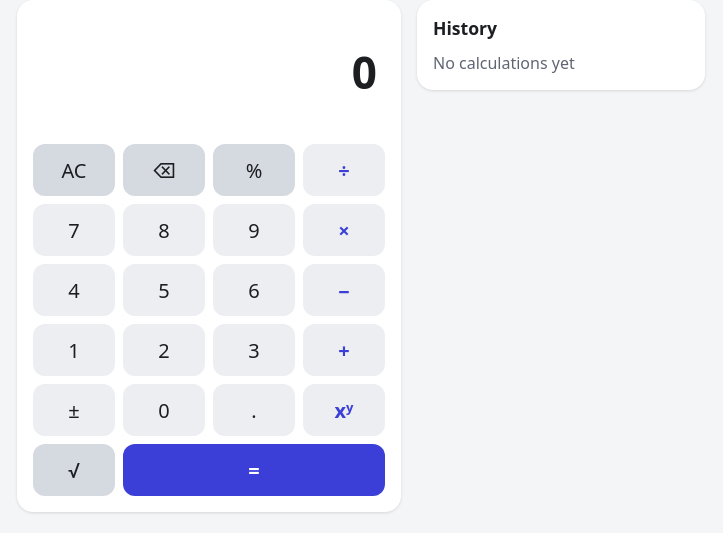
Test case: Calculator › calculates left to right through the keypad
The width and height of the screenshot is (723, 533).
Click the button "2" at (164, 350), box [123,324,205,376]
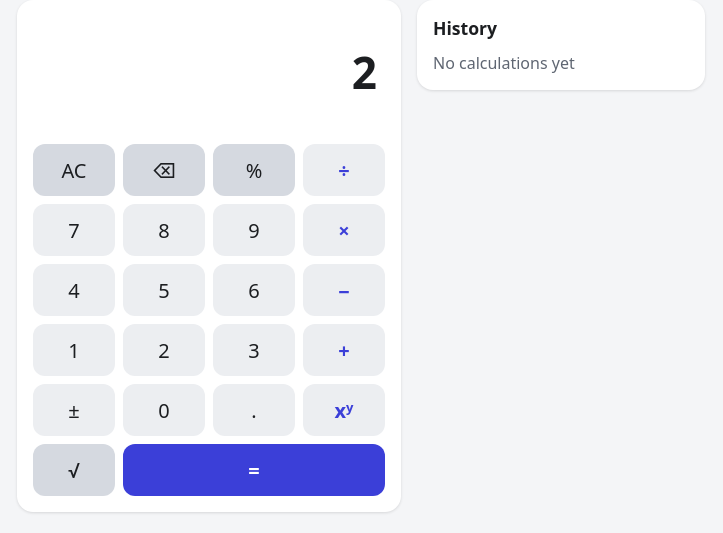
Click the button named "plus" at (344, 350), box [303,324,385,376]
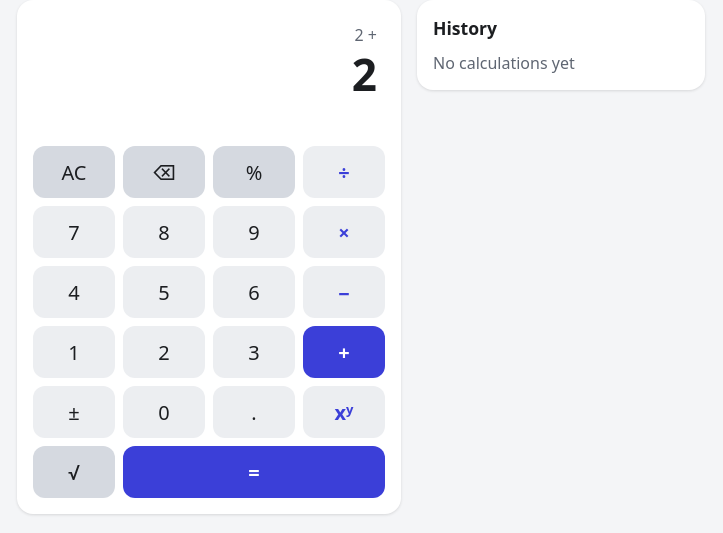
Click the button "3" at (254, 352), box [213,326,295,378]
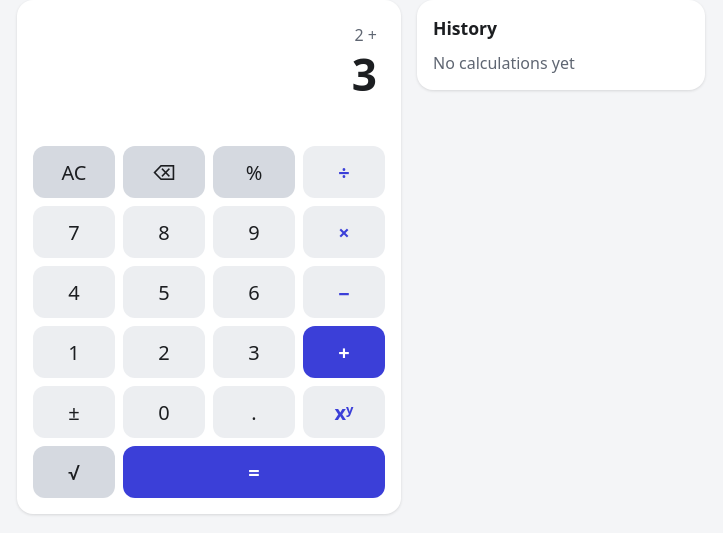
Click the button named "times" at (344, 232), box [303,206,385,258]
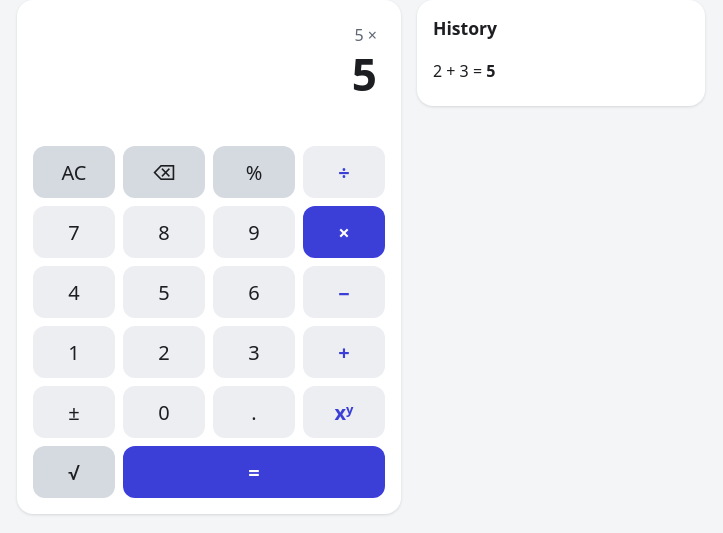
Click the button "4" at (74, 292), box [33,266,115,318]
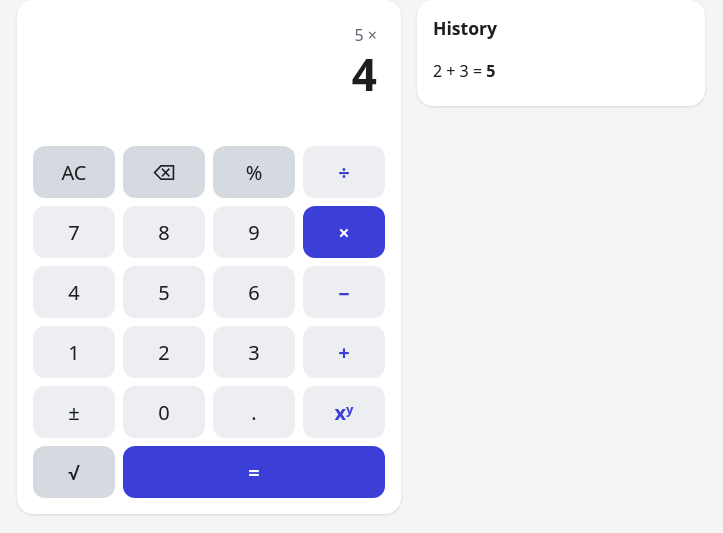
Click the button named "equals" at (254, 472), box [123,446,385,498]
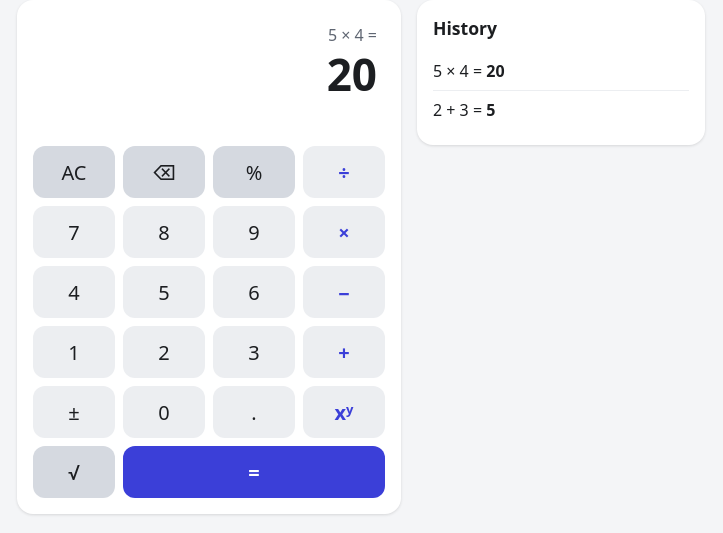
expect the 1st text "20" is shown: met, box [327,50,377,98]
expect the text "5 × 4 =" is shown: met, box [328,24,377,46]
